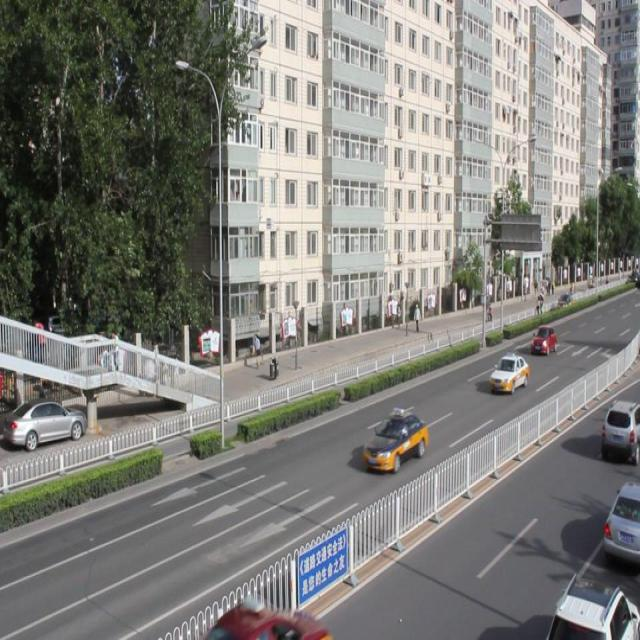car: (546, 575, 640, 640), (204, 595, 330, 640), (361, 414, 428, 471), (601, 478, 640, 559), (600, 398, 640, 460), (488, 352, 528, 395), (530, 324, 556, 353)
